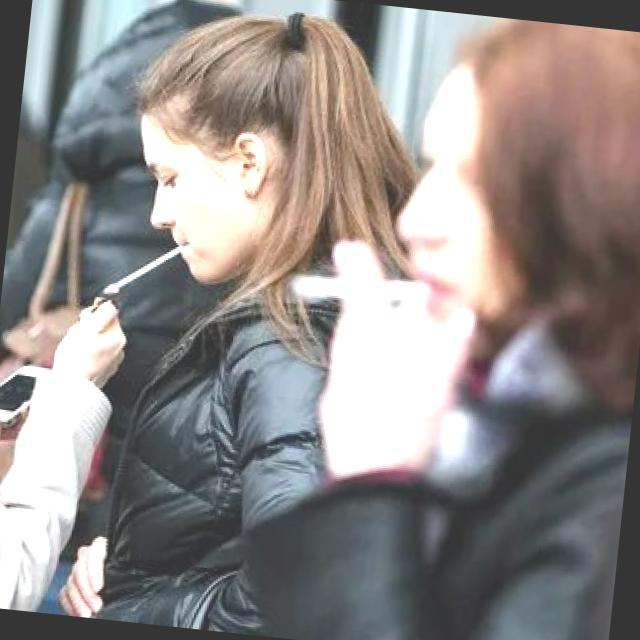cigarette: (282, 262, 443, 318), (100, 236, 188, 304)
